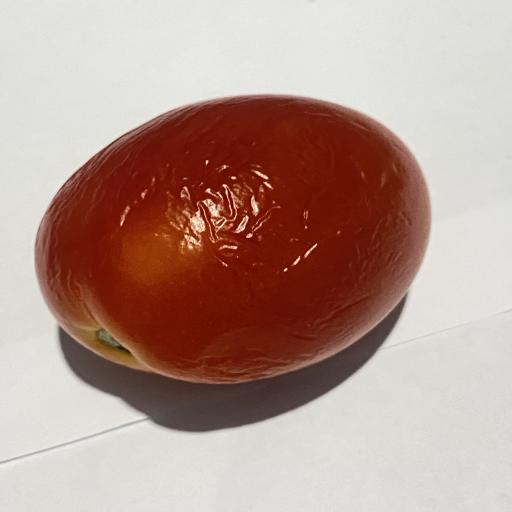spoiled: (38, 95, 430, 383)
